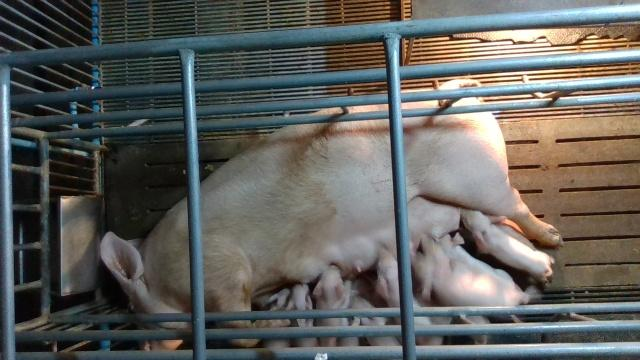piglet: (459, 208, 556, 285), (376, 249, 443, 346), (351, 290, 401, 346), (313, 263, 345, 346), (285, 282, 320, 346)
sow-sleep-lactate: (102, 79, 564, 347)
